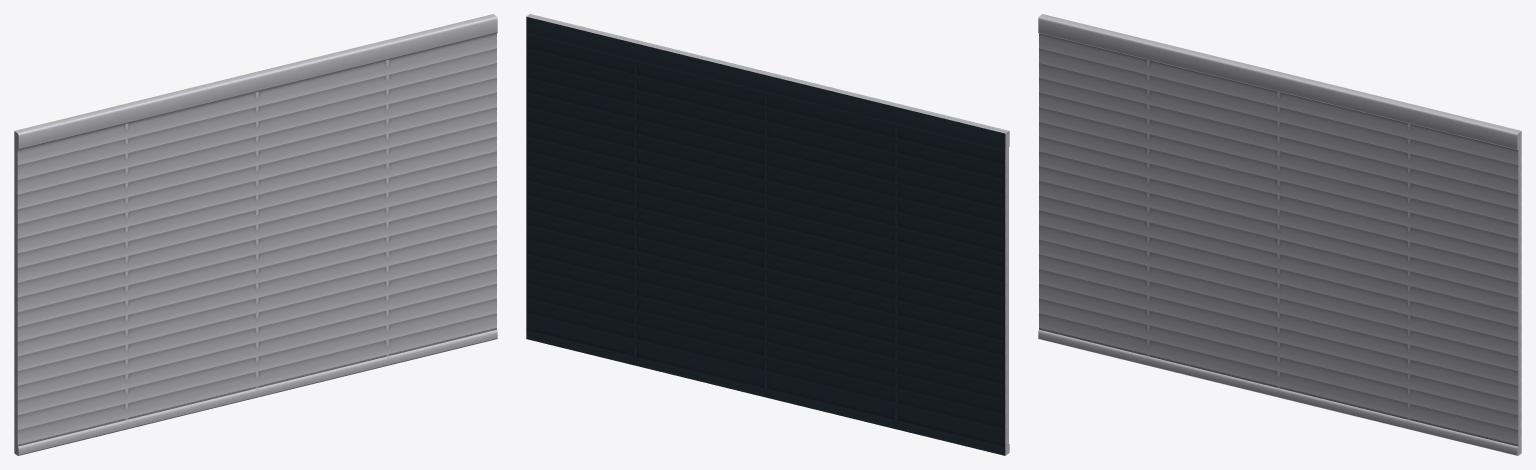
File: PropBlinds01TypeJ_1.FBX
3 views of the same model, side by side, from view 1: azimuth 30°, elevation 25°; view 2: azimuth 150°, elevation 25°; view 3: azimuth 330°, elevation 25° (orthographic).
Parts seen in each view (by area): view 1: PropBlinds01TypeJ_1; view 2: PropBlinds01TypeJ_1; view 3: PropBlinds01TypeJ_1.
Part boxes in pixels (bbox=[...]): PropBlinds01TypeJ_1: bbox=[14, 14, 497, 455]; PropBlinds01TypeJ_1: bbox=[526, 14, 1009, 455]; PropBlinds01TypeJ_1: bbox=[1038, 14, 1521, 455].
Size of what is drawn, in the model's own units: 3.5 by 2.25 by 0.055.
